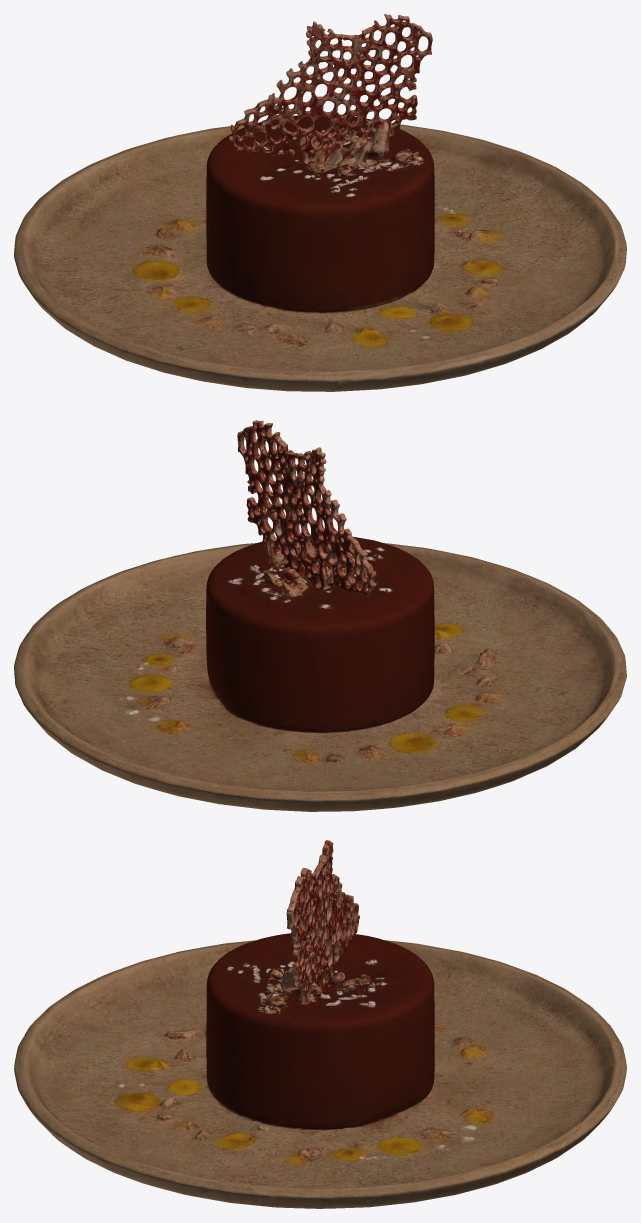
File: chocolat-fume-mobile-q.glb
The picture shows the model from 3 angles, top to bottom: view 1: azimuth 30°, elevation 25°; view 2: azimuth 150°, elevation 25°; view 3: azimuth 270°, elevation 25°; orthographic projection.
Size of the model in its own units: 1.9 by 0.8774 by 1.9.
1 material, 1 textured.
